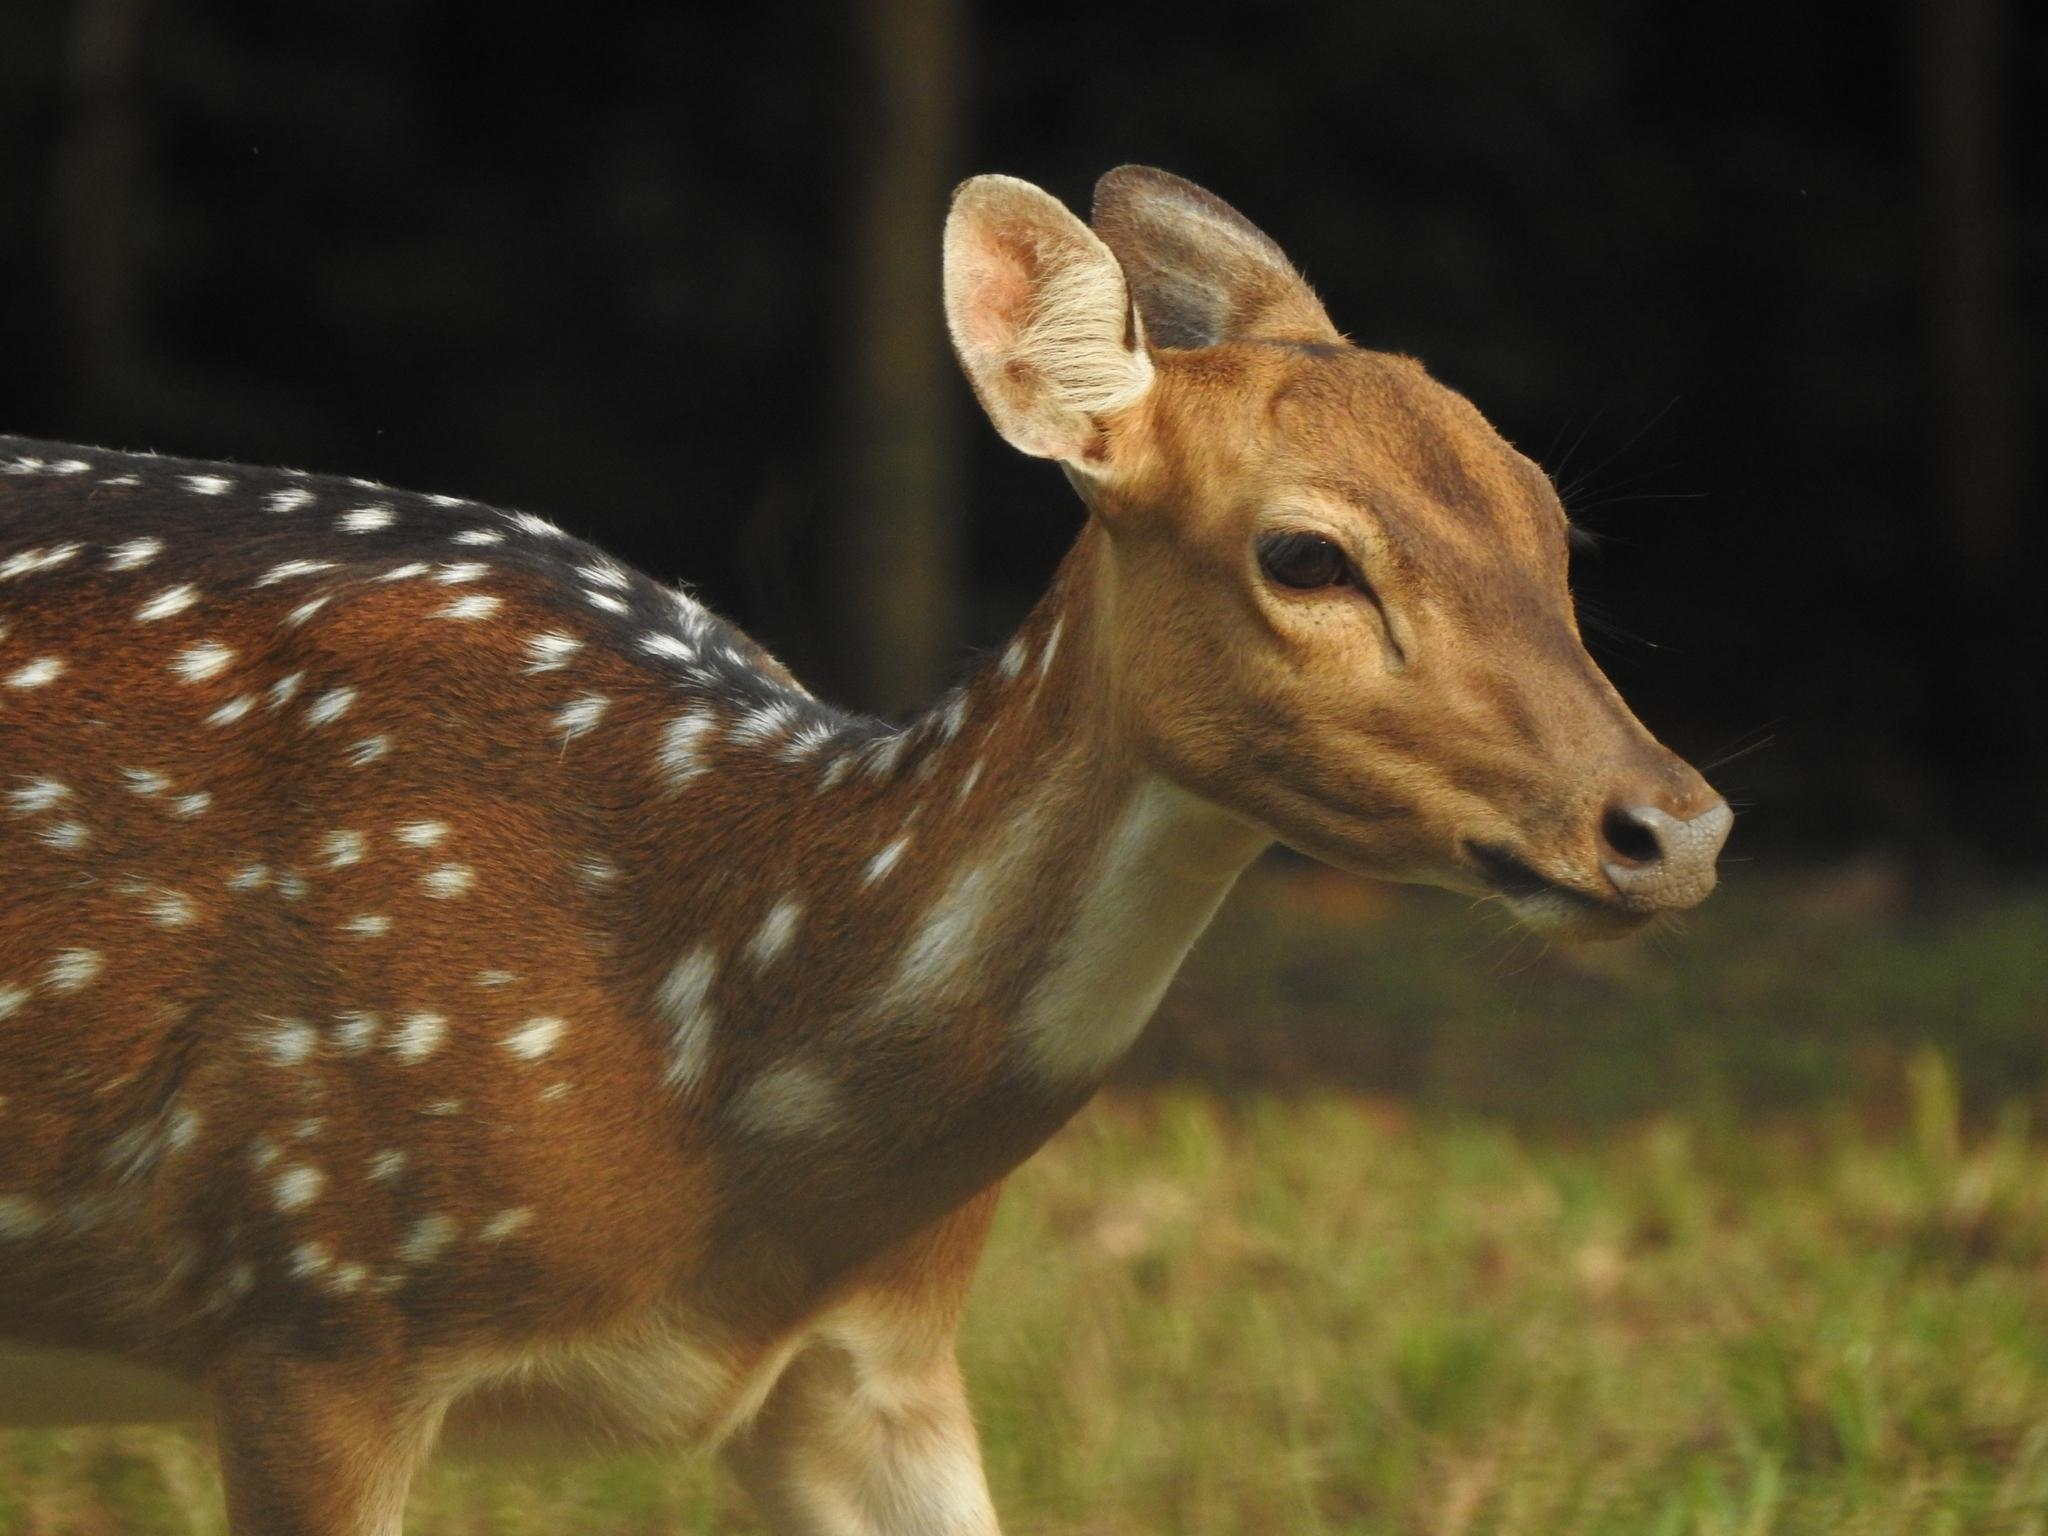Deer: (0, 168, 1730, 1534)
